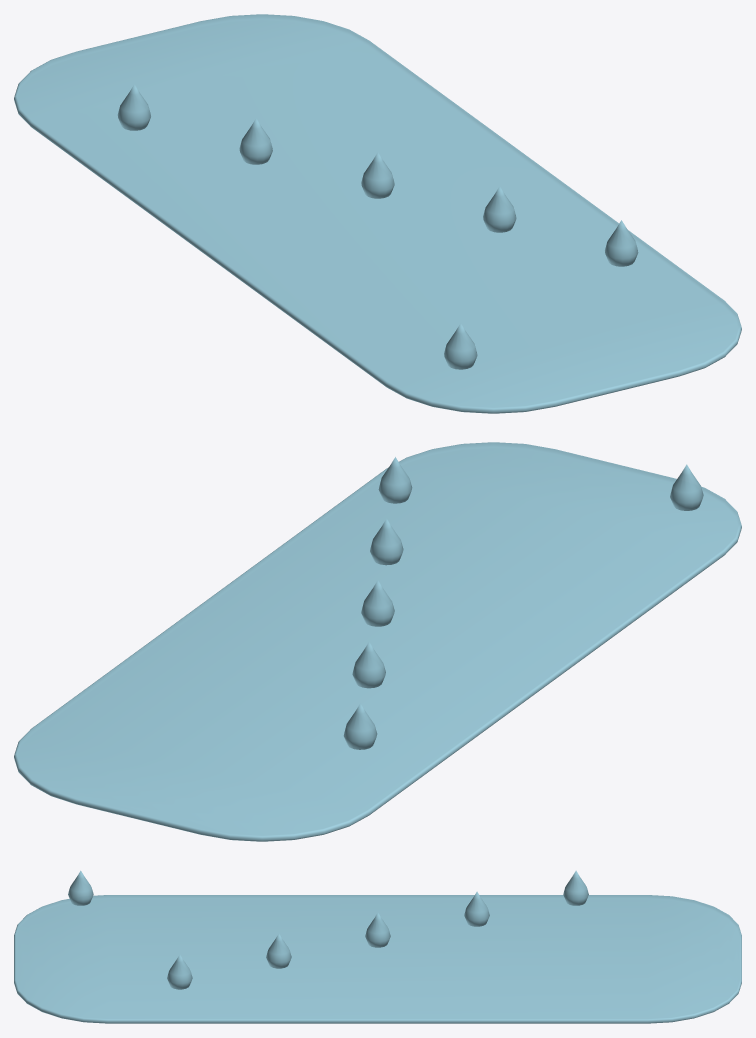
Rendered from tub.glb.
3 renders of one model, top to bottom at view 1: azimuth 30°, elevation 25°; view 2: azimuth 150°, elevation 25°; view 3: azimuth 270°, elevation 25°, orthographic. The views are drawn at different scales.
Parts seen in each view (by area): view 1: WaterMesh, DropMesh1, DropMesh2, DropMesh5, DropMesh3, DropMesh0, DropMesh4; view 2: WaterMesh, DropMesh2, DropMesh0, DropMesh3, DropMesh5, DropMesh1, DropMesh4; view 3: WaterMesh, DropMesh2, DropMesh1, DropMesh4, DropMesh5, DropMesh3, DropMesh0.
Part boxes in pixels (x1,y1,x2,y2): WaterMesh: (14,14,741,413); DropMesh1: (239,118,272,164); DropMesh2: (361,152,394,198); DropMesh5: (444,323,477,369); DropMesh3: (483,186,516,232); DropMesh0: (117,84,150,130); DropMesh4: (605,220,638,266); WaterMesh: (14,442,741,841); DropMesh2: (361,580,394,626); DropMesh0: (343,703,377,749); DropMesh3: (370,518,403,565); DropMesh5: (670,464,703,510); DropMesh1: (352,642,385,688); DropMesh4: (378,457,412,503); WaterMesh: (14,895,741,1023); DropMesh2: (365,912,390,947); DropMesh1: (464,891,489,926); DropMesh4: (167,954,192,989); DropMesh5: (68,870,93,905); DropMesh3: (266,933,291,968); DropMesh0: (563,870,588,905).
Size of the model in its own units: 0.6 by 0.11 by 1.47.
